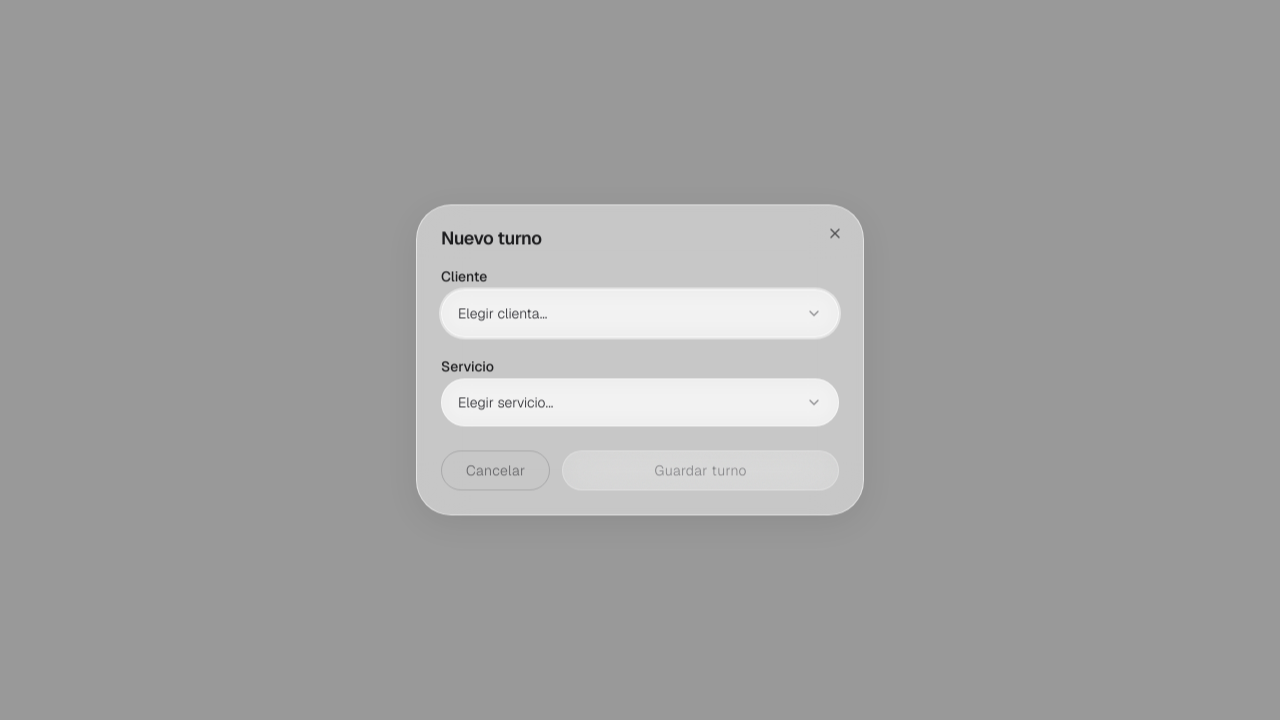
Test case: NewBookingDialog (NAIL-L3) › shows price and duration summary for the selected service
Click the dropdown labelled "servicio" at [506, 403], box top-left (441, 379), bottom-right (839, 427)
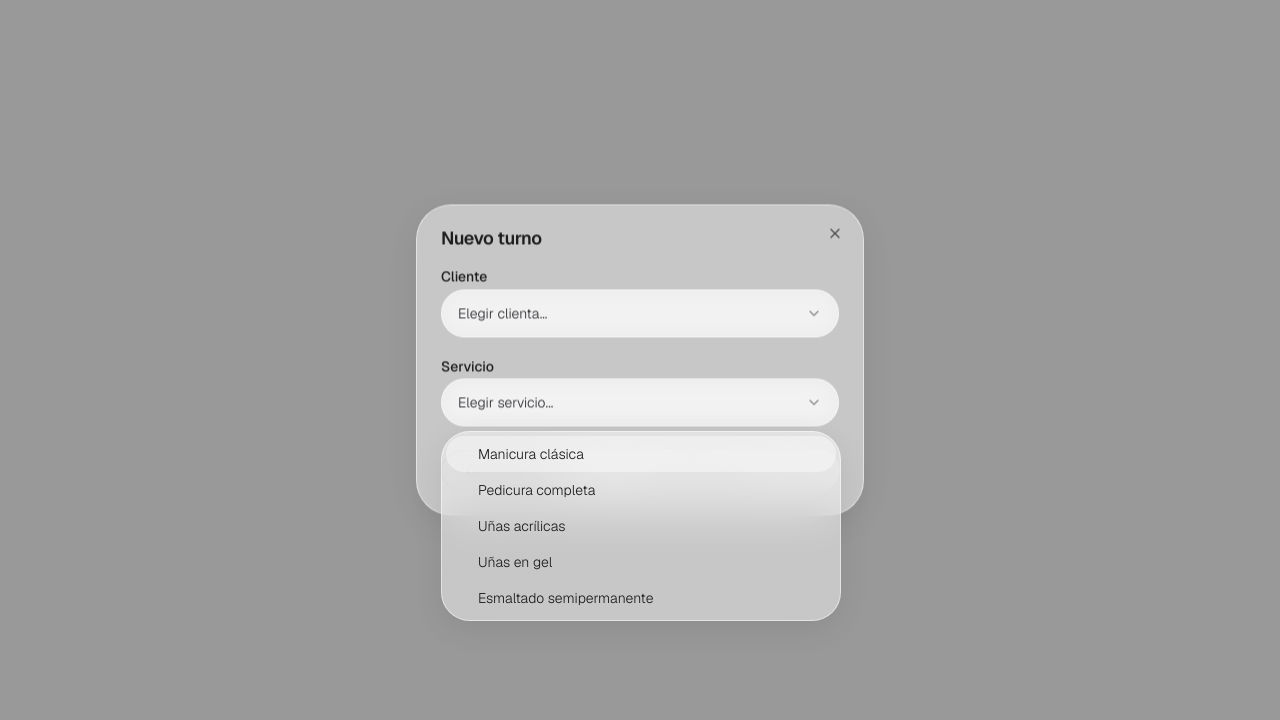
Click the option "Manicura clásica" at [531, 454], box top-left (446, 436), bottom-right (836, 472)
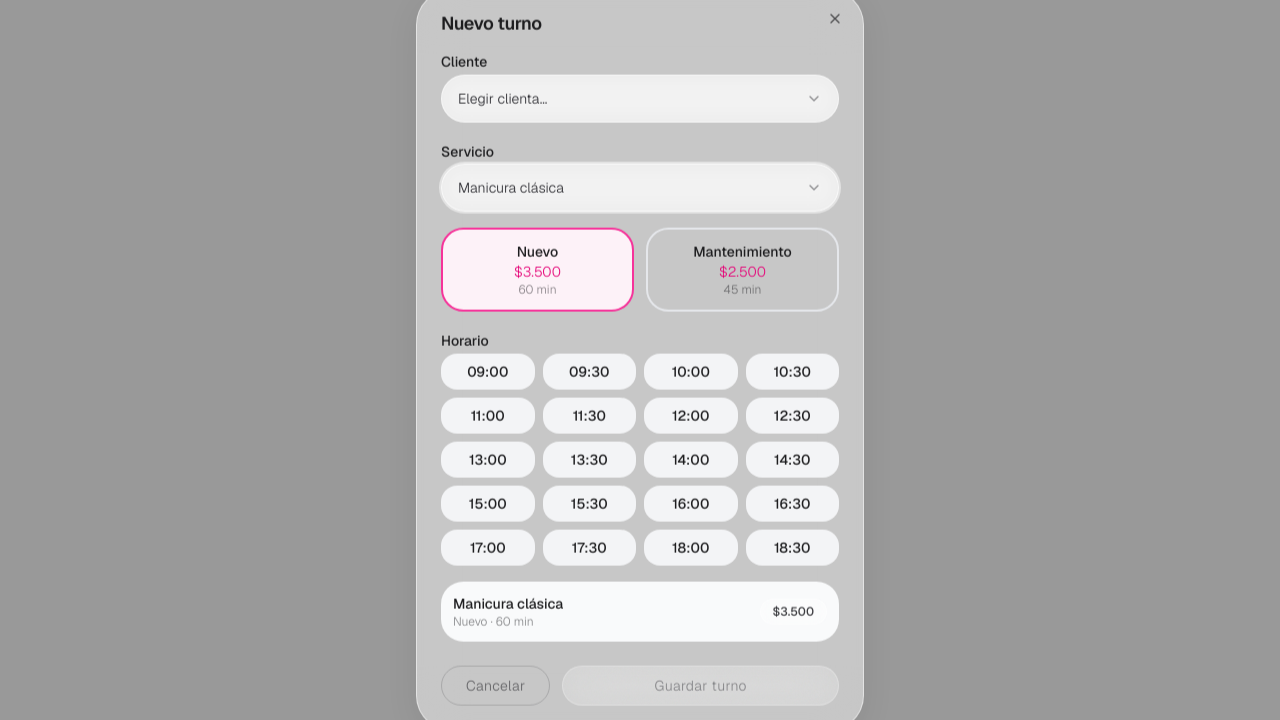
Expected: the 2nd text "$3.500" is shown, top-left (760, 598), bottom-right (827, 624)
Expected: the text "Nuevo · 60 min" is shown, top-left (453, 613), bottom-right (534, 629)
